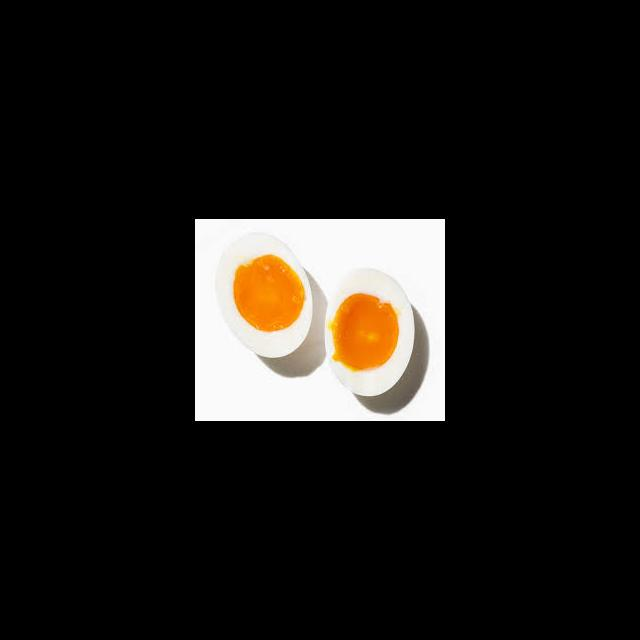food_waste: (209, 236, 434, 406)
